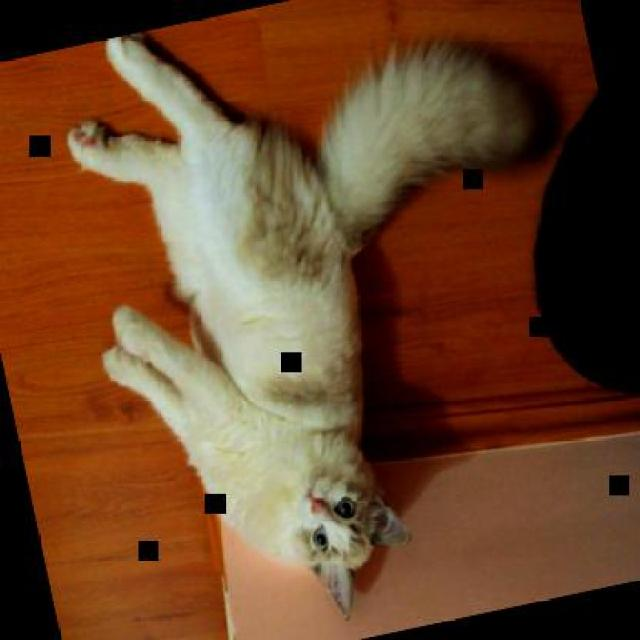cat: (35, 0, 636, 638)
